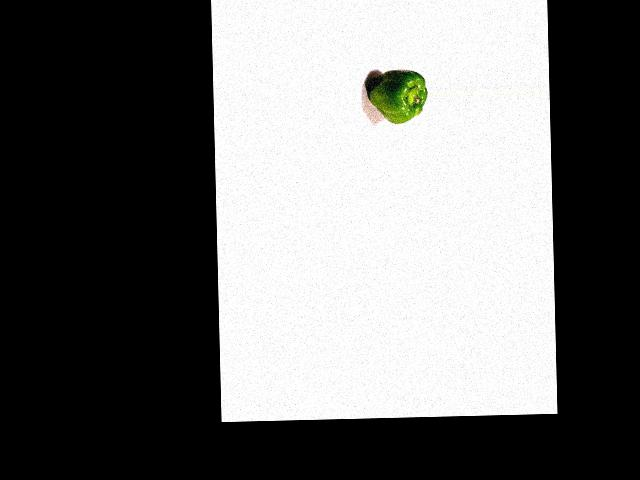bell_pepper: (365, 67, 427, 126)
